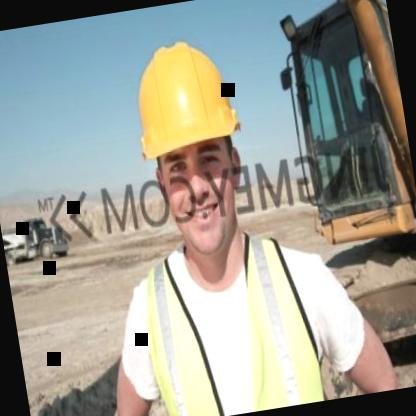helmet: (114, 13, 269, 284)
